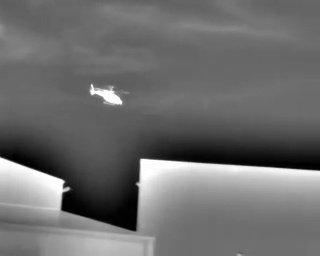HELICOPTER: (87, 78, 134, 114)
